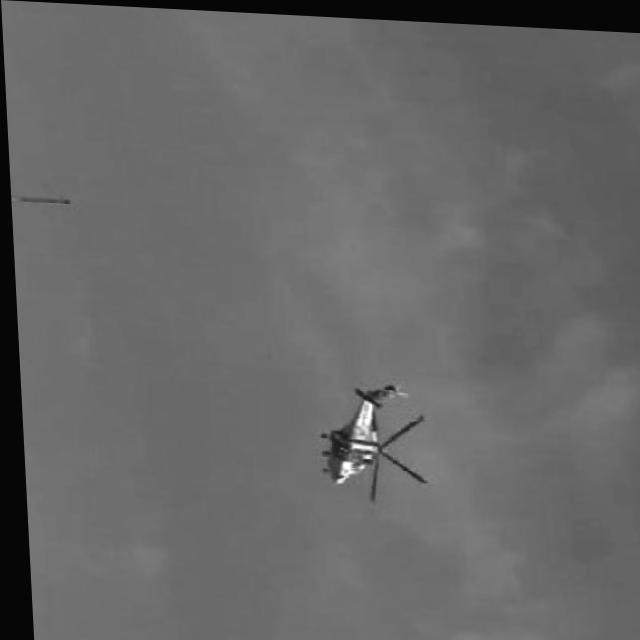helikopter: (293, 358, 442, 500)
